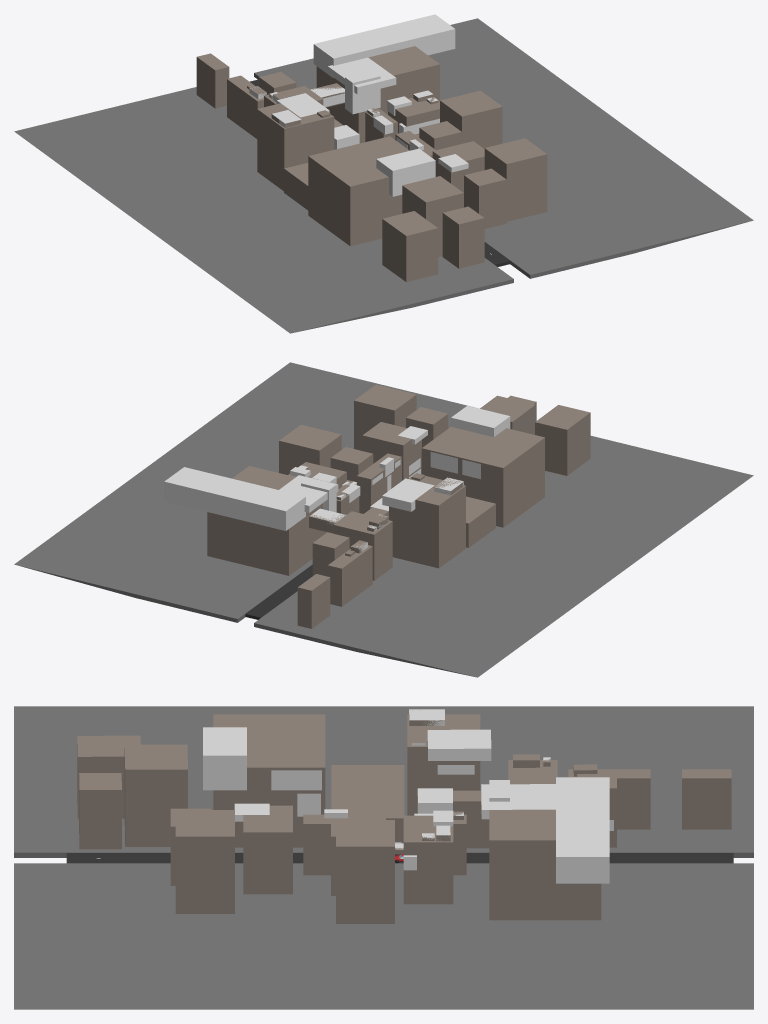
The model's file is CityStreet.dae.
3 views of the same model, one above another, from view 1: azimuth 30°, elevation 25°; view 2: azimuth 150°, elevation 25°; view 3: azimuth 270°, elevation 25° (orthographic). The views are drawn at different scales.
Visible parts, largest first — view 1: Pavement, Buildings, Cutter.015, Cutter.037, Cutter.034, Cutter.036, Cutter.011; view 2: Pavement, Buildings, Cutter.015, Cutter.037, Cutter.011, Street, Cutter.034, Cutter.036; view 3: Pavement, Buildings, Cutter.015, Street, Cutter.037, Cutter.011, Cutter.034, Cutter.008, Cutter.001, Cutter.009, Cutter.020.
Part boxes in pixels (x1=…): Pavement: x1=14, y1=18, x2=753, y2=333; Buildings: x1=196, y1=46, x2=547, y2=281; Cutter.015: x1=313, y1=14, x2=455, y2=78; Cutter.037: x1=376, y1=148, x2=435, y2=196; Cutter.034: x1=327, y1=57, x2=396, y2=94; Cutter.036: x1=345, y1=70, x2=380, y2=114; Cutter.011: x1=276, y1=93, x2=329, y2=117; Pavement: x1=14, y1=362, x2=753, y2=677; Buildings: x1=207, y1=384, x2=590, y2=628; Cutter.015: x1=164, y1=467, x2=305, y2=530; Cutter.037: x1=451, y1=405, x2=510, y2=436; Cutter.011: x1=382, y1=478, x2=434, y2=511; Street: x1=245, y1=565, x2=312, y2=619; Cutter.034: x1=279, y1=475, x2=338, y2=512; Cutter.036: x1=301, y1=478, x2=336, y2=512; Pavement: x1=14, y1=706, x2=753, y2=1009; Buildings: x1=77, y1=710, x2=731, y2=923; Cutter.015: x1=556, y1=777, x2=609, y2=883; Street: x1=66, y1=853, x2=733, y2=863; Cutter.037: x1=203, y1=727, x2=246, y2=790; Cutter.011: x1=427, y1=729, x2=491, y2=760; Cutter.034: x1=481, y1=784, x2=555, y2=819; Cutter.008: x1=271, y1=770, x2=321, y2=790; Cutter.001: x1=417, y1=788, x2=452, y2=813; Cutter.009: x1=297, y1=793, x2=320, y2=816; Cutter.020: x1=409, y1=709, x2=444, y2=725.
Bounding box in the file's own units: 159 × 164 × 34.62.
